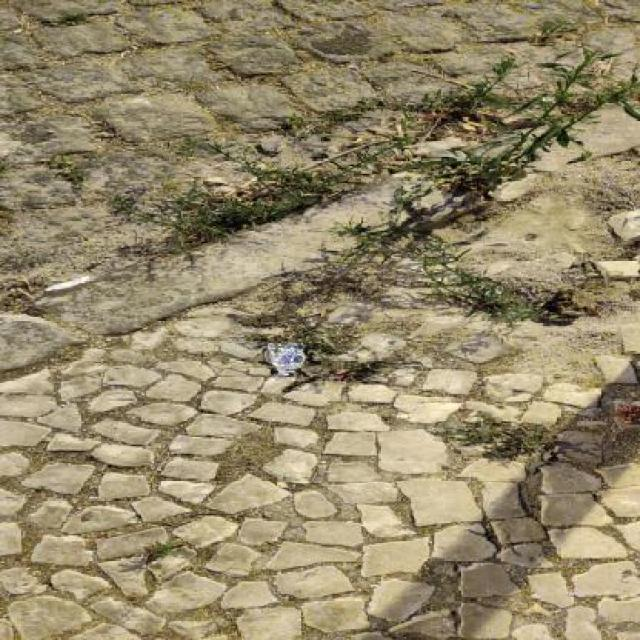plastic: (267, 343, 307, 377)
